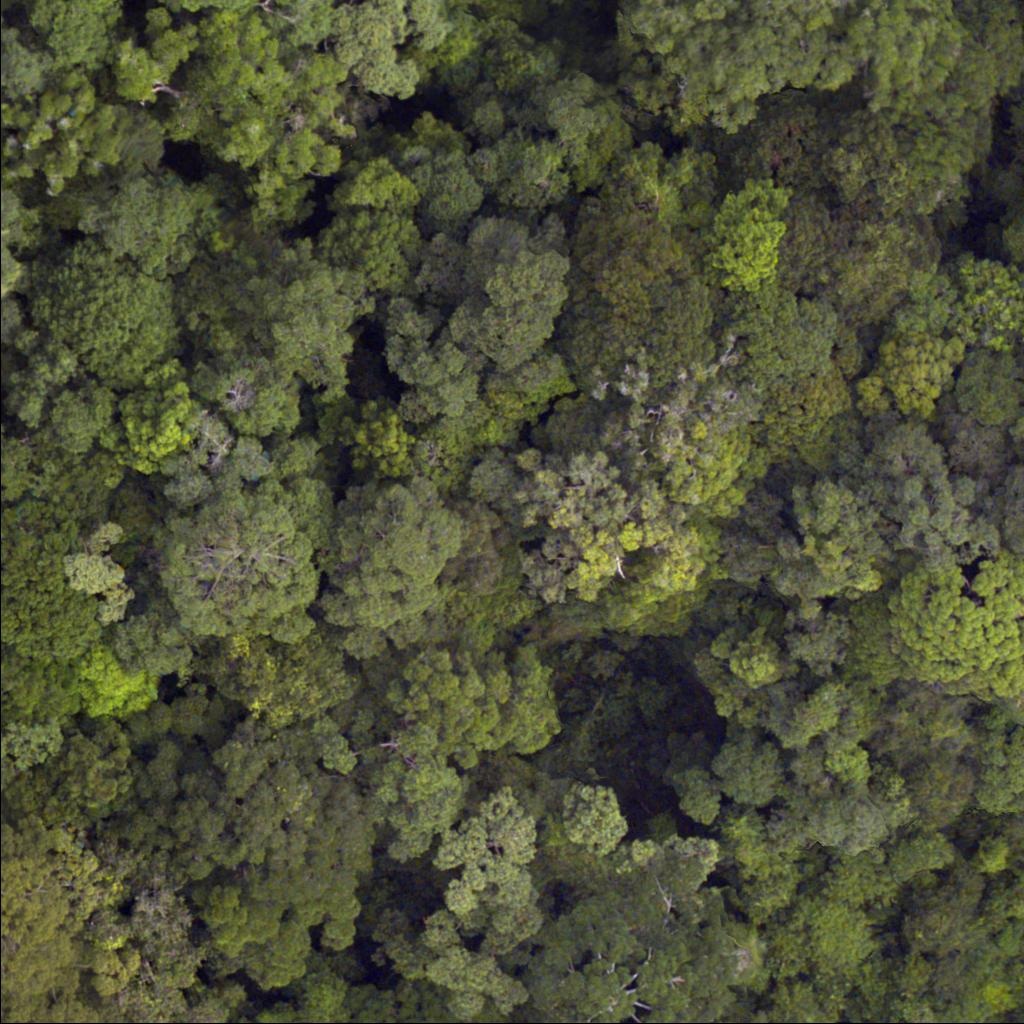crown: (375, 774, 635, 1023), (142, 708, 375, 939), (108, 8, 358, 164), (562, 173, 725, 388), (509, 876, 736, 1023), (0, 821, 146, 1023), (859, 556, 1023, 708), (297, 477, 465, 620), (376, 641, 558, 770), (744, 477, 886, 608), (856, 427, 995, 560), (726, 289, 856, 394), (704, 175, 801, 305), (852, 326, 966, 417), (72, 650, 160, 725), (338, 400, 418, 480), (702, 620, 795, 688), (116, 613, 198, 683), (0, 718, 60, 795), (984, 444, 1023, 555), (1000, 129, 1023, 189)
